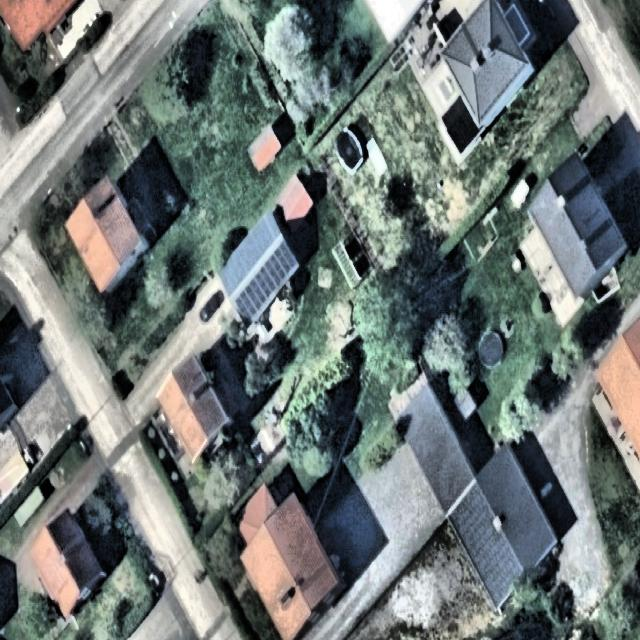roof_pv: (230, 236, 298, 328)
